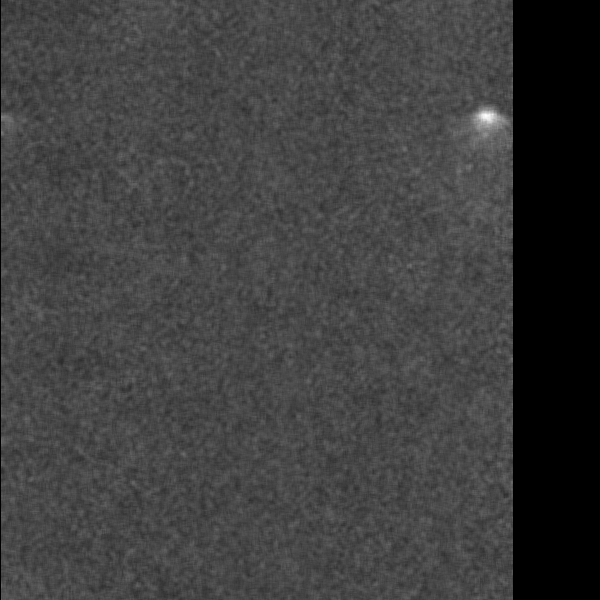spark: (319, 324, 357, 371)
